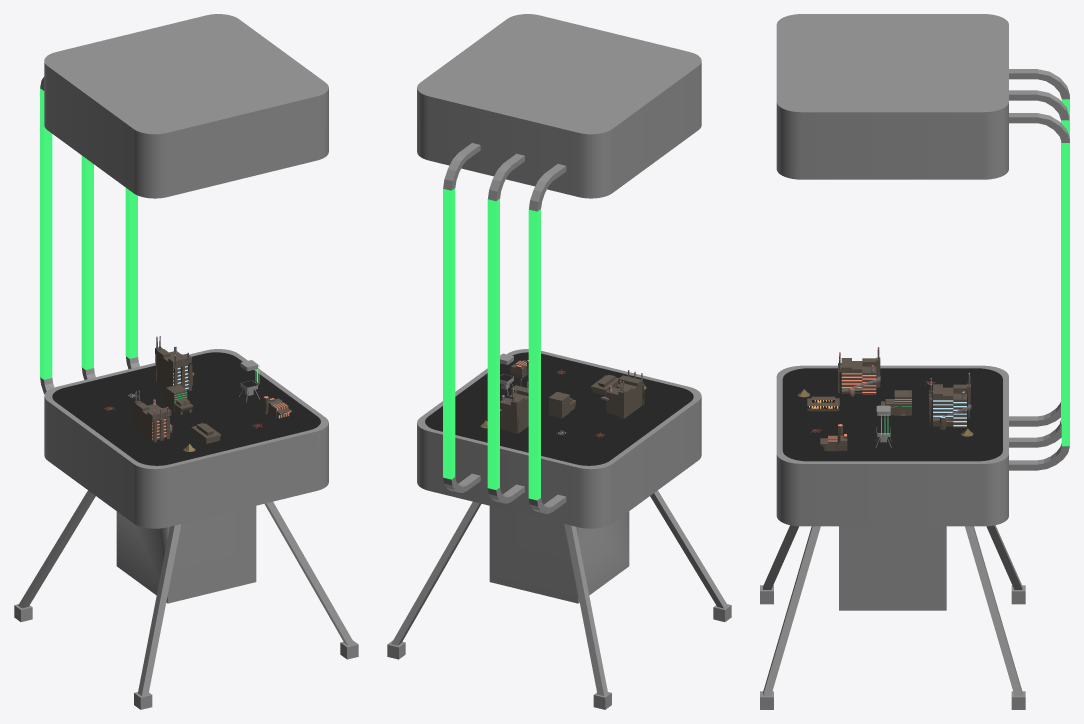
Rendered from Terrarium.glb.
3 renders of one model, left to right at view 1: azimuth 30°, elevation 25°; view 2: azimuth 150°, elevation 25°; view 3: azimuth 270°, elevation 25°, orthographic. The views are drawn at different scales.
Parts seen in each view (by area): view 1: Cube.008, Cube.007, Cube.006, Cube.005, Cube.004, Cylinder.009, Refinery (scaled and at origin).001, Cube.088; view 2: Cube.008, Cube.007, Cube.004, Cube.006, Cube.005, Refinery (scaled and at origin).001, Cylinder.009, Cube.088; view 3: Cube.008, Cube.007, Cube.004, Cylinder.009, Cube.005, Refinery (scaled and at origin).001, Cube.006, Cube.088, Cube.084.
Part boxes in pixels (x1=…): Cube.008: x1=44, y1=14, x2=328, y2=603; Cube.007: x1=14, y1=490, x2=358, y2=709; Cube.006: x1=40, y1=76, x2=54, y2=394; Cube.005: x1=81, y1=155, x2=95, y2=379; Cube.004: x1=125, y1=188, x2=139, y2=369; Cylinder.009: x1=155, y1=335, x2=192, y2=390; Refinery (scaled and at origin).001: x1=134, y1=390, x2=172, y2=440; Cube.088: x1=166, y1=384, x2=193, y2=415; Cube.008: x1=417, y1=14, x2=701, y2=603; Cube.007: x1=387, y1=490, x2=731, y2=709; Cube.004: x1=443, y1=143, x2=480, y2=492; Cube.006: x1=528, y1=164, x2=566, y2=513; Cube.005: x1=487, y1=153, x2=524, y2=503; Refinery (scaled and at origin).001: x1=600, y1=370, x2=644, y2=418; Cylinder.009: x1=500, y1=379, x2=528, y2=433; Cube.088: x1=548, y1=391, x2=576, y2=418; Cube.008: x1=776, y1=14, x2=1008, y2=610; Cube.007: x1=760, y1=525, x2=1025, y2=709; Cube.004: x1=1009, y1=113, x2=1069, y2=470; Cylinder.009: x1=929, y1=372, x2=971, y2=429; Cube.005: x1=1009, y1=90, x2=1069, y2=447; Refinery (scaled and at origin).001: x1=838, y1=347, x2=880, y2=397; Cube.006: x1=1009, y1=69, x2=1069, y2=426; Cube.088: x1=881, y1=390, x2=911, y2=415; Cube.084: x1=807, y1=396, x2=839, y2=411.
Size of the model in its own units: 0.7042 by 1.74 by 0.8255.
